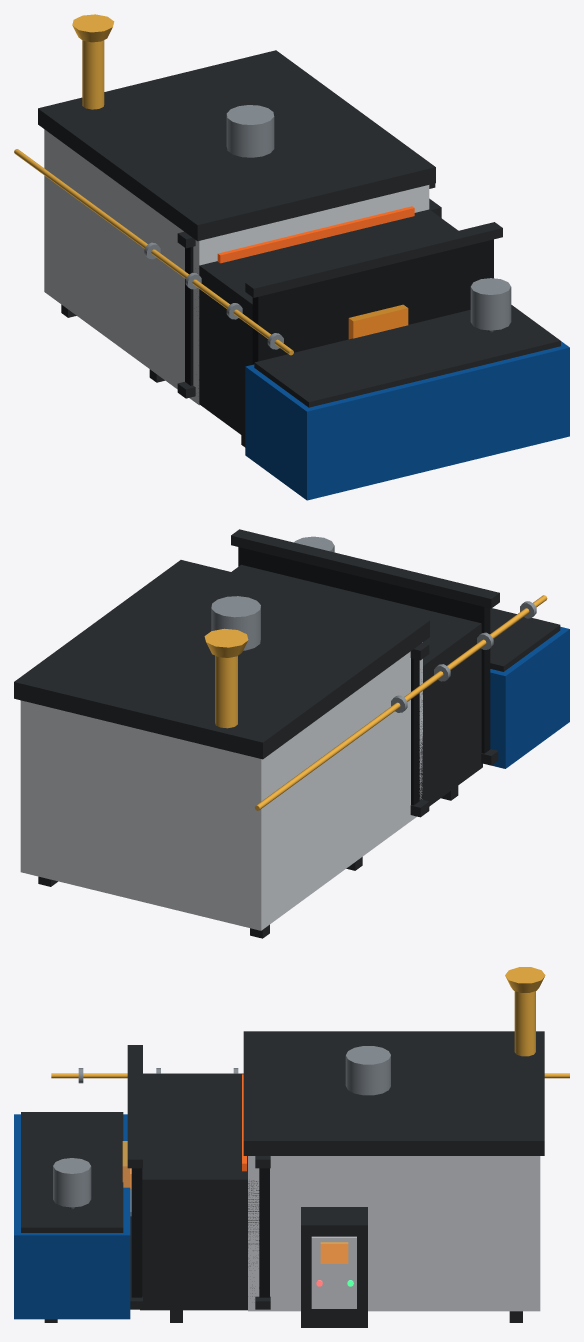
Rendered from box_atmosphere_furnace.glb.
The picture shows the model from 3 angles, top to bottom: view 1: azimuth 30°, elevation 25°; view 2: azimuth 150°, elevation 25°; view 3: azimuth 270°, elevation 25°; orthographic projection. The views are drawn at different scales.
Parts seen in each view (by area): view 1: merged_dark_heat_resistant_panel, merged_industrial_blue_base, merged_warm_light_gray_shell, merged_black_lift_door, merged_brushed_steel, merged_safety_yellow_pipe, merged_hot_chamber_glow, merged_amber_observation_glass; view 2: merged_warm_light_gray_shell, merged_dark_heat_resistant_panel, merged_industrial_blue_base, merged_black_lift_door, merged_safety_yellow_pipe, merged_brushed_steel; view 3: merged_dark_heat_resistant_panel, merged_warm_light_gray_shell, merged_industrial_blue_base, merged_brushed_steel, merged_black_lift_door, merged_safety_yellow_pipe, merged_amber_observation_glass.
Boxes of the visible parts, left/top/right/bottom form: merged_dark_heat_resistant_panel: left=38, top=50, right=560, bottom=447; merged_industrial_blue_base: left=245, top=341, right=569, bottom=500; merged_warm_light_gray_shell: left=44, top=129, right=429, bottom=405; merged_black_lift_door: left=185, top=239, right=493, bottom=385; merged_brushed_steel: left=144, top=105, right=511, bottom=349; merged_safety_yellow_pipe: left=14, top=14, right=293, bottom=355; merged_hot_chamber_glow: left=217, top=206, right=414, bottom=263; merged_amber_observation_glass: left=348, top=304, right=408, bottom=339; merged_warm_light_gray_shell: left=20, top=642, right=422, bottom=930; merged_dark_heat_resistant_panel: left=14, top=529, right=560, bottom=938; merged_industrial_blue_base: left=490, top=626, right=569, bottom=768; merged_black_lift_door: left=238, top=547, right=490, bottom=805; merged_safety_yellow_pipe: left=204, top=595, right=547, bottom=810; merged_brushed_steel: left=211, top=536, right=536, bottom=712; merged_dark_heat_resistant_panel: left=21, top=1031, right=544, bottom=1327; merged_warm_light_gray_shell: left=248, top=1156, right=540, bottom=1311; merged_industrial_blue_base: left=14, top=1114, right=130, bottom=1319; merged_brushed_steel: left=53, top=1046, right=390, bottom=1216; merged_black_lift_door: left=131, top=1168, right=269, bottom=1297; merged_safety_yellow_pipe: left=51, top=967, right=569, bottom=1078; merged_amber_observation_glass: left=122, top=1141, right=348, bottom=1263.
Bounding box in the file's own units: 5.38 × 4.89 × 9.32.
